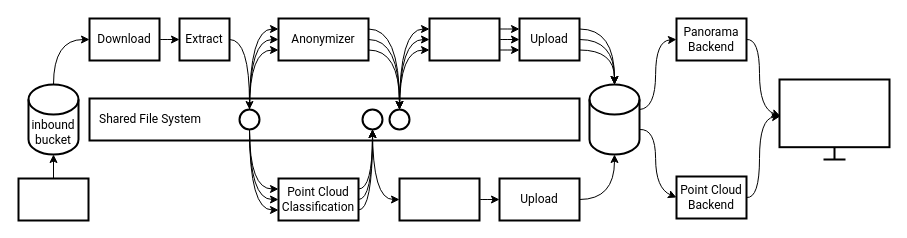
Some shapes in this 907 by 238 pixel diagram are drawn without their labels. Here are the shapes that lost their labels. From the top down, the box of each, then its label:
(428, 17, 500, 61): Panorama Tiler
(588, 83, 640, 155): internal bucket
(778, 78, 890, 160): Fibre3D
(17, 177, 89, 221): T-Car
(398, 177, 480, 221): Potree Converter
